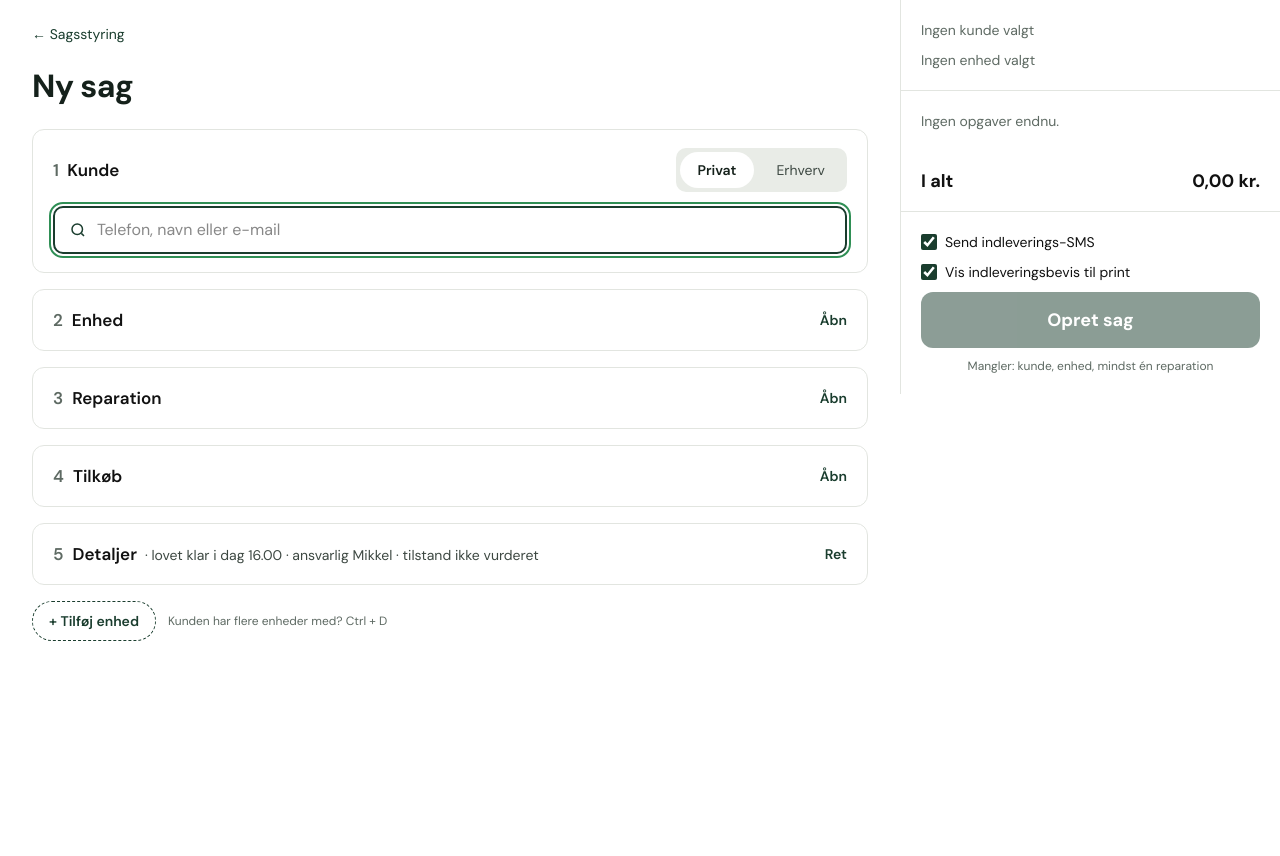
Scenario: Ny sag: sektionsflow › collapses the customer to a summary, advances to the device, and Esc reopens the previous section
The image size is (1280, 856).
Type "20 45" into the field named "Søg kunde" at [464, 230], box [97,218,831,242]
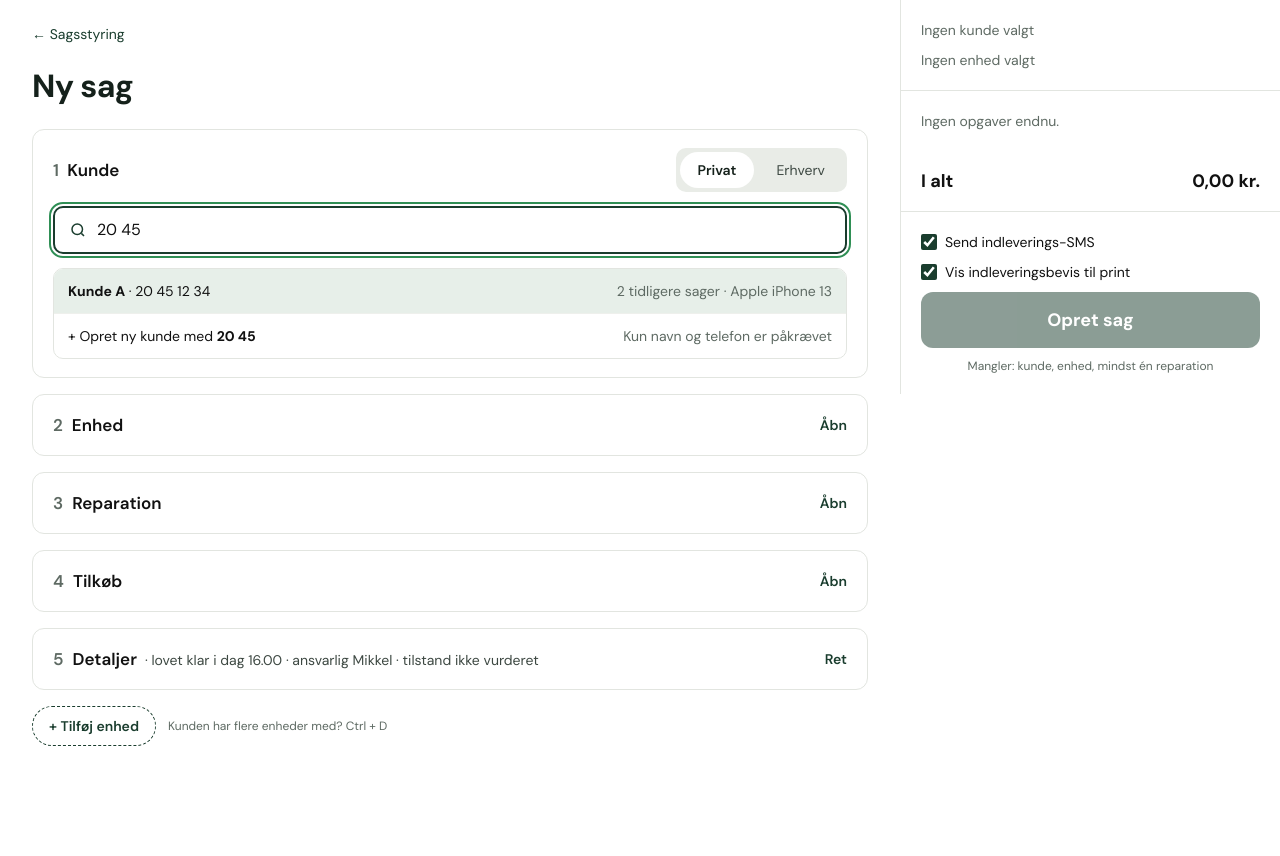
Click the button "Kunde A · 20 45 12 34 2 tidligere sager · Apple iPhone 13" at [97, 291], box [54,269,846,313]
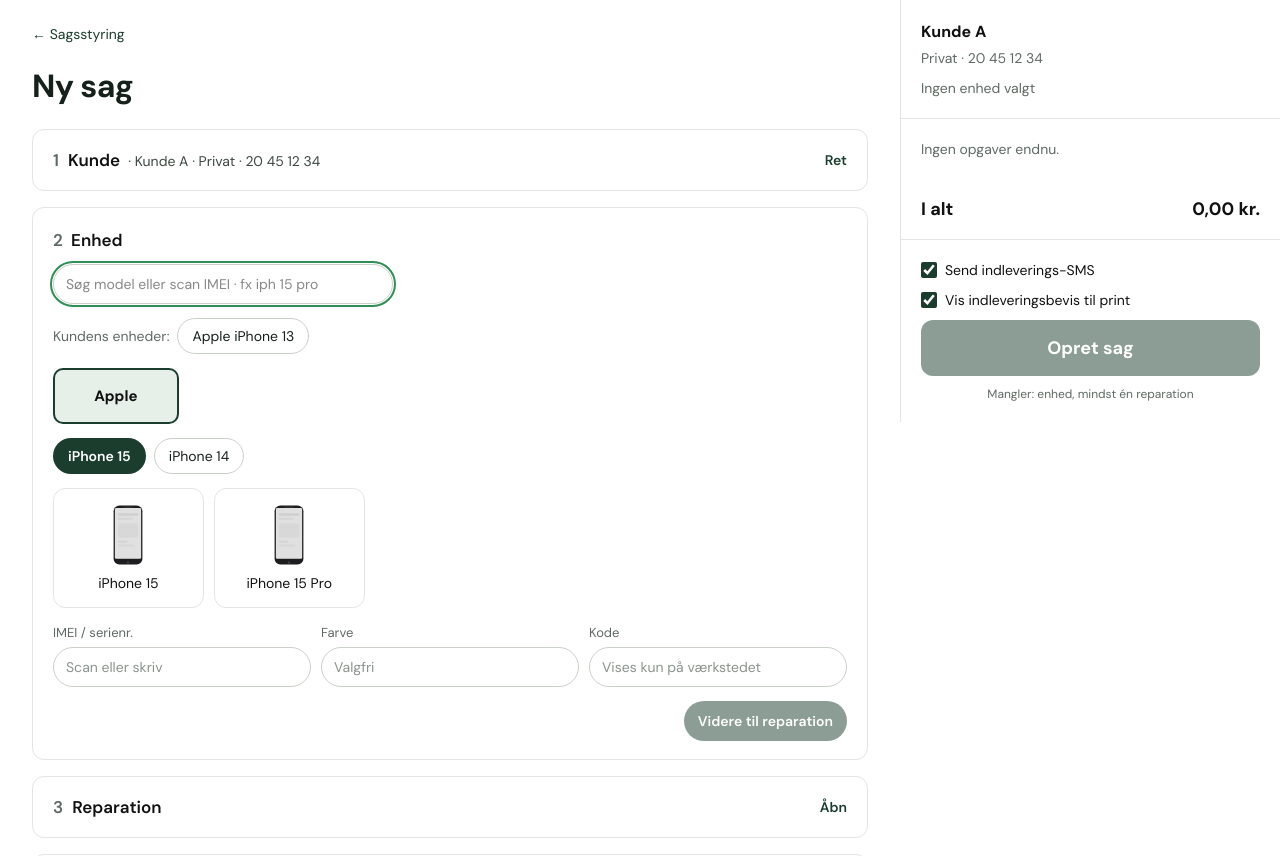
Check: the button "1 Kunde· Kunde A · Privat · 20 45 12 34 Ret" is shown, box [33,130,867,190]
Press Escape in the field labelled "Søg model eller scan IMEI", box [66,274,380,294]
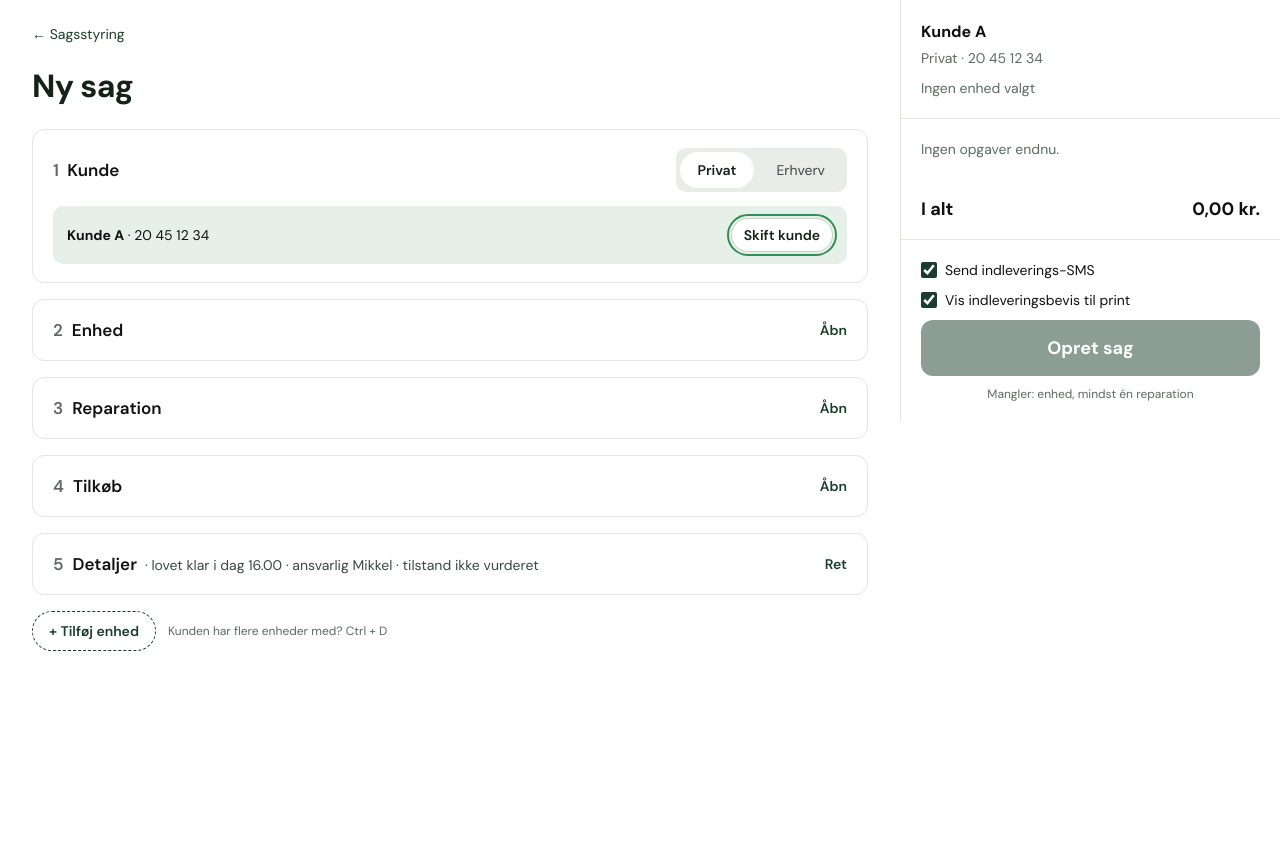
Check: the button "Skift kunde" is shown, box [731,218,833,252]
